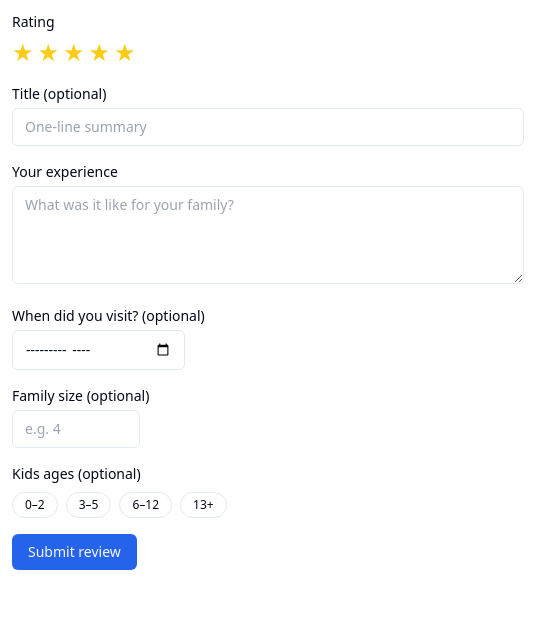
it: ReviewForm › shows generic error when response has no error field
Type "My review" into the text box with placeholder "What was it like for your family?".
click(268, 235); type("My review")  # box x1=12 y1=186 x2=524 y2=284
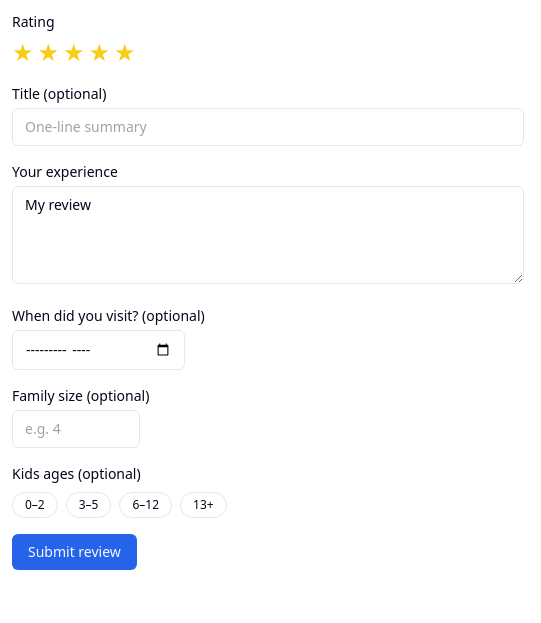
Click the button "Submit review".
click(74, 552)  # box x1=12 y1=534 x2=137 y2=570
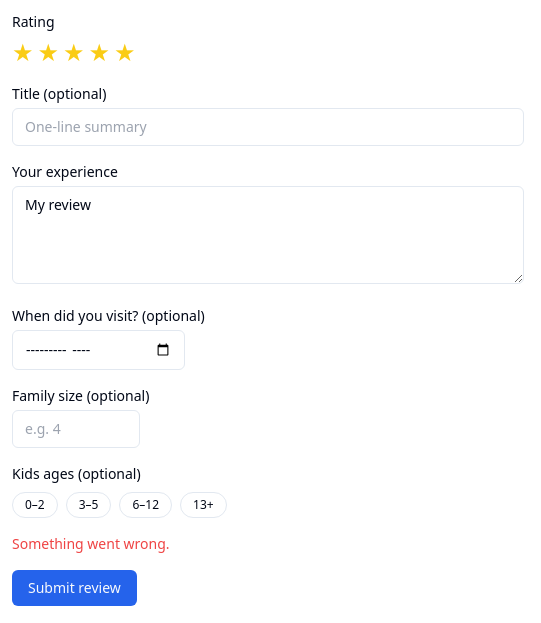
Expected: the text "Something went wrong." is shown, x1=12 y1=534 x2=170 y2=553
